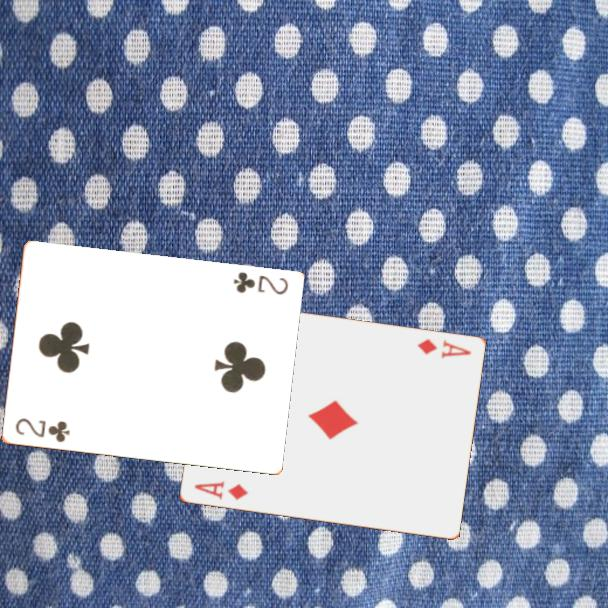c02: (12, 415, 72, 446), (229, 268, 291, 298)
d01: (413, 336, 474, 362), (190, 478, 251, 503)
